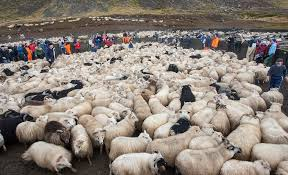sheep: (175, 140, 241, 172), (25, 140, 75, 175), (111, 152, 164, 175), (222, 155, 268, 175), (113, 131, 151, 154), (258, 113, 286, 144), (254, 140, 288, 162), (70, 124, 92, 157), (82, 114, 106, 144), (107, 112, 138, 135), (41, 122, 67, 141), (262, 86, 285, 107), (142, 111, 168, 129), (213, 102, 229, 131)
